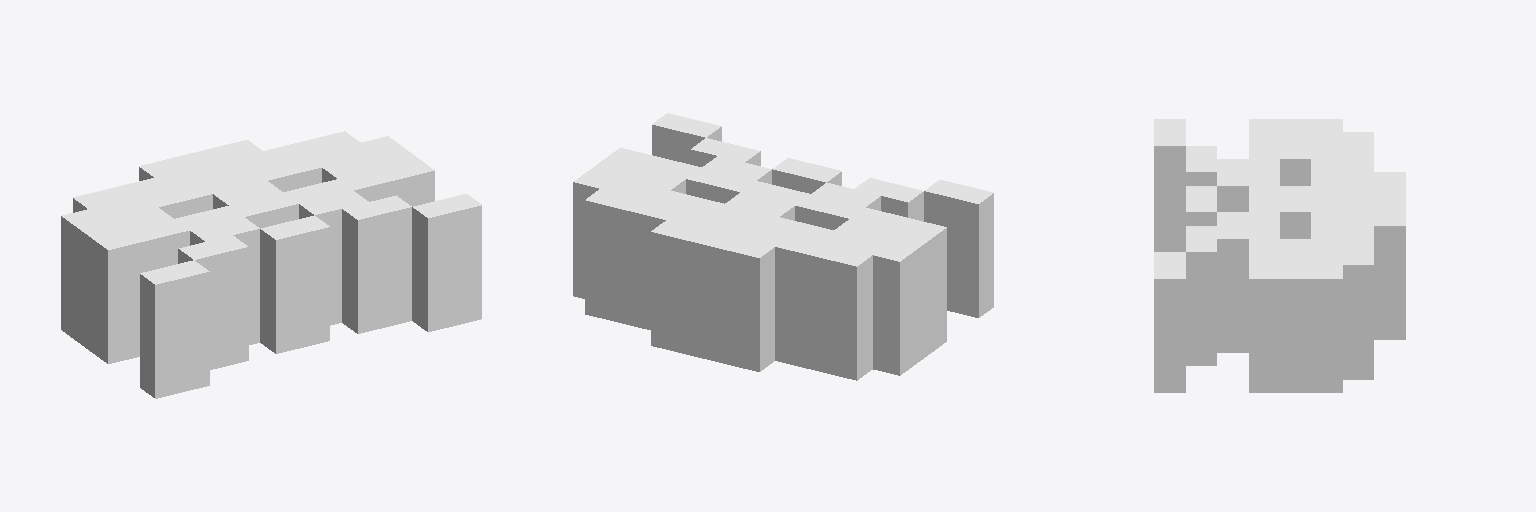
File: azul1.obj
3 views of the same model, side by side, from view 1: azimuth 30°, elevation 25°; view 2: azimuth 150°, elevation 25°; view 3: azimuth 270°, elevation 25° (orthographic).
Parts seen in each view (by area): view 1: object 1; view 2: object 1; view 3: object 1.
Boxes of the visible parts, <box> form: object 1: <box>61,131,481,398</box>; object 1: <box>573,113,993,380</box>; object 1: <box>1154,119,1405,392</box>.
Size of the model in its own units: 1.2 by 0.4 by 0.8.